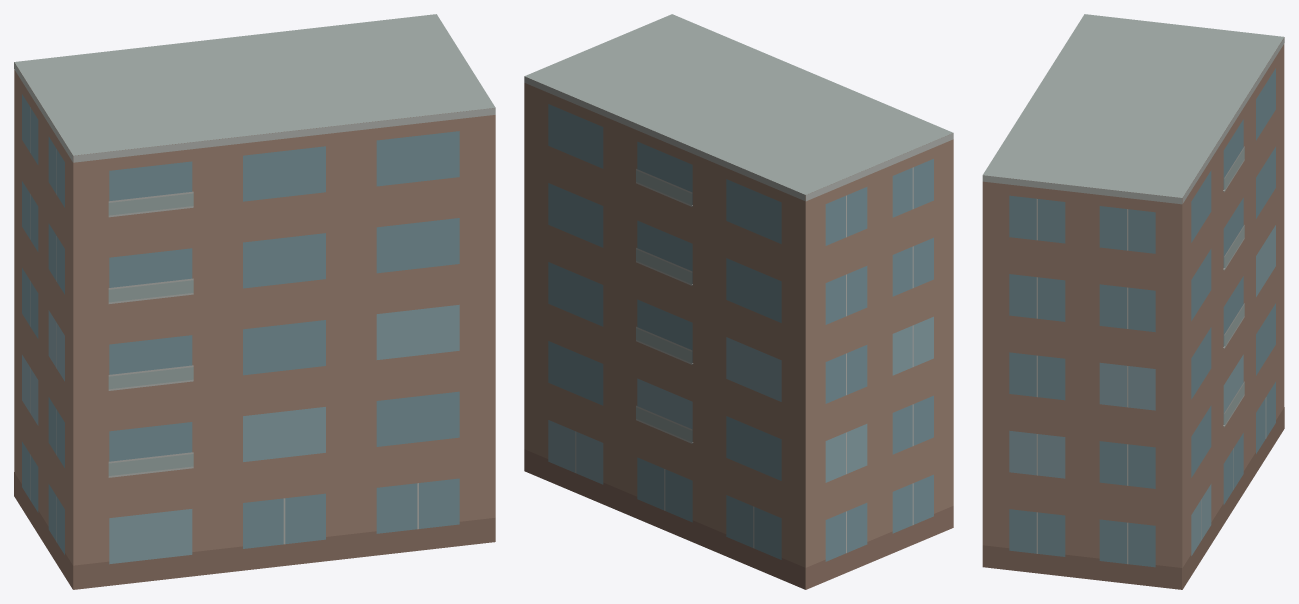
The model's file is survey-upis-32872840.glb.
3 views of the same model, side by side, from view 1: azimuth 30°, elevation 25°; view 2: azimuth 150°, elevation 25°; view 3: azimuth 270°, elevation 25° (orthographic). The views are drawn at different scales.
Parts seen in each view (by area): view 1: survey-upis-32872840.tmp; view 2: survey-upis-32872840.tmp; view 3: survey-upis-32872840.tmp.
Part boxes in pixels (x1,y1,x2,y2): survey-upis-32872840.tmp: [14, 14, 495, 589]; survey-upis-32872840.tmp: [524, 14, 953, 589]; survey-upis-32872840.tmp: [982, 14, 1284, 589].
Bounding box in the file's own units: 15.15 × 15.03 × 10.51.
